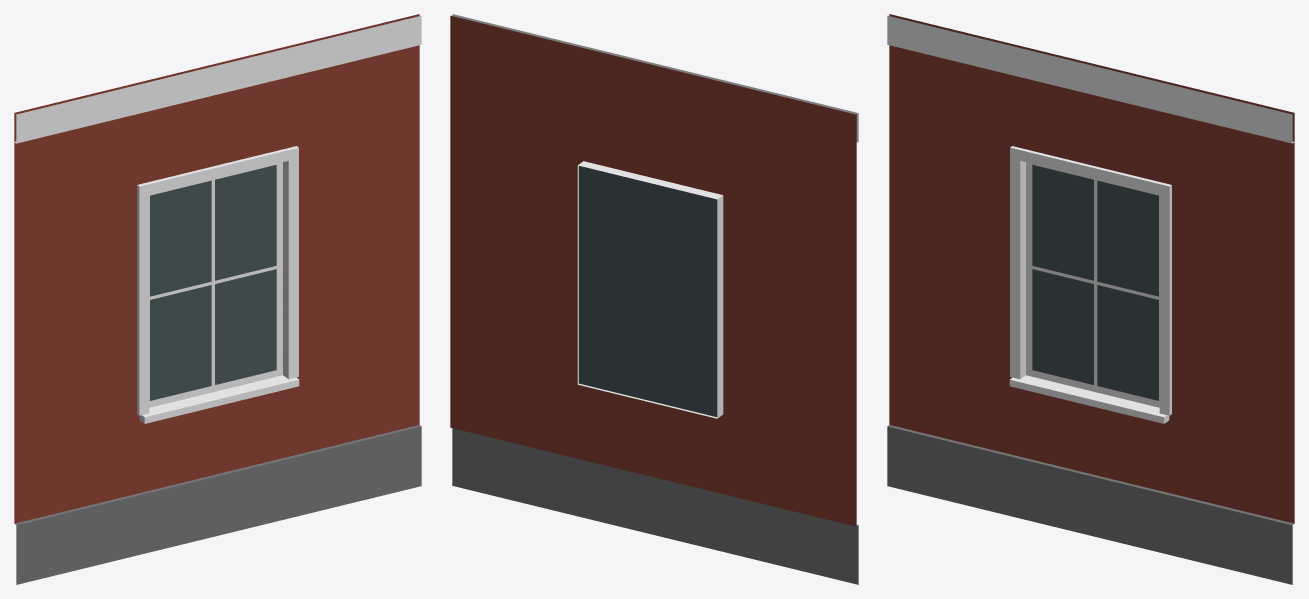
3 renders of one model, left to right at view 1: azimuth 30°, elevation 25°; view 2: azimuth 150°, elevation 25°; view 3: azimuth 330°, elevation 25°, orthographic.
Parts seen in each view (by area): view 1: a2000/200/base-w1; view 2: a2000/200/base-w1; view 3: a2000/200/base-w1.
Boxes of the visible parts, x1,y1,x2,y2 form: a2000/200/base-w1: (14, 14, 421, 584); a2000/200/base-w1: (450, 14, 858, 584); a2000/200/base-w1: (887, 14, 1294, 584).
Size of the model in its own units: 3.2 by 3.55 by 0.15.
